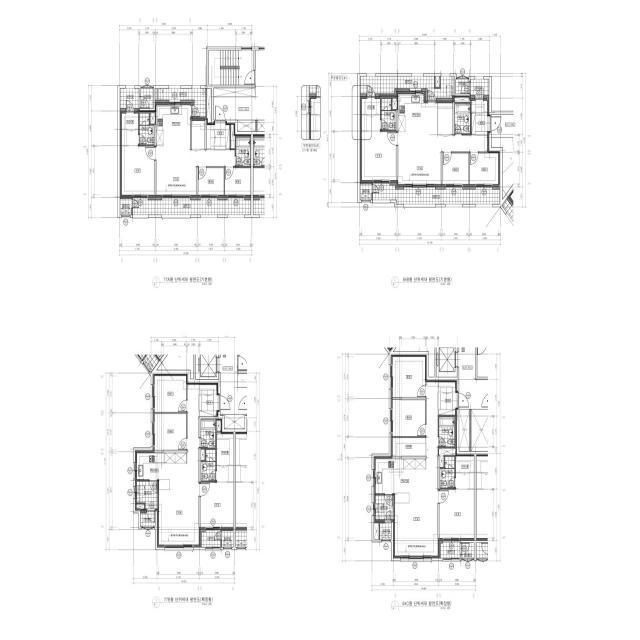space_balconi: (373, 183, 500, 204), (360, 76, 454, 101), (133, 198, 251, 215), (155, 89, 206, 117), (137, 481, 158, 509), (374, 495, 394, 522), (120, 88, 139, 111), (471, 79, 489, 98), (441, 541, 460, 558), (202, 530, 221, 547)
space_bedroom: (360, 131, 396, 180), (440, 490, 474, 541), (120, 146, 154, 197), (201, 483, 233, 530), (391, 355, 426, 397), (391, 400, 425, 436), (154, 376, 186, 412), (155, 414, 186, 450), (470, 153, 500, 184), (443, 153, 469, 184), (225, 168, 251, 197), (198, 168, 224, 197)
space_dressroom: (217, 432, 233, 481), (360, 99, 380, 130), (456, 454, 474, 488), (120, 111, 138, 145)
space_elevator: (196, 354, 218, 379)
space_elevator_hall: (459, 347, 488, 409), (220, 354, 237, 414), (214, 97, 256, 120), (491, 114, 514, 137)
space_front: (207, 121, 230, 150), (438, 391, 458, 415), (199, 393, 219, 416), (471, 113, 490, 135)
space_kitchen: (374, 456, 426, 507), (135, 446, 187, 480), (398, 94, 437, 135), (156, 103, 190, 150)
space_living_room: (393, 380, 440, 558), (157, 384, 201, 547), (398, 135, 489, 184), (156, 150, 235, 197)
space_other: (471, 409, 488, 451), (391, 438, 426, 456), (438, 101, 453, 134), (190, 118, 205, 150), (459, 409, 469, 451), (220, 415, 247, 429), (214, 88, 255, 97), (439, 448, 456, 467), (140, 510, 155, 526), (141, 88, 153, 108), (439, 380, 457, 393), (460, 543, 474, 558), (237, 120, 255, 131), (456, 79, 469, 94), (472, 101, 489, 112), (200, 383, 218, 393), (207, 88, 211, 123), (231, 125, 235, 148), (374, 523, 379, 539), (455, 97, 470, 102), (217, 419, 222, 431), (150, 113, 155, 124), (392, 98, 397, 109), (135, 504, 144, 510), (201, 449, 205, 460), (436, 76, 440, 87)
space_outdoor_room: (360, 184, 372, 200), (380, 522, 391, 539), (222, 531, 233, 547), (120, 199, 131, 215)
space_staircase: (209, 50, 253, 85)
space_toilet: (439, 416, 455, 447), (440, 456, 455, 488), (201, 449, 216, 481), (139, 113, 154, 145), (381, 98, 396, 130), (455, 103, 470, 134), (201, 419, 216, 448), (236, 137, 251, 166)
